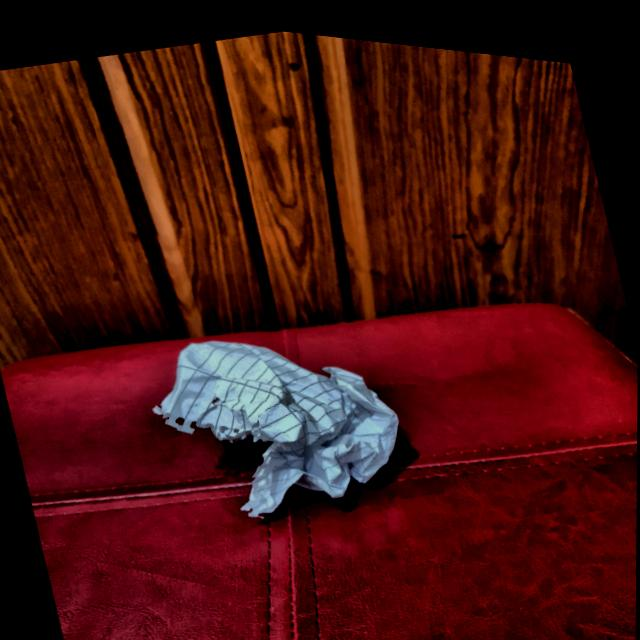Paper: (135, 285, 410, 539)
